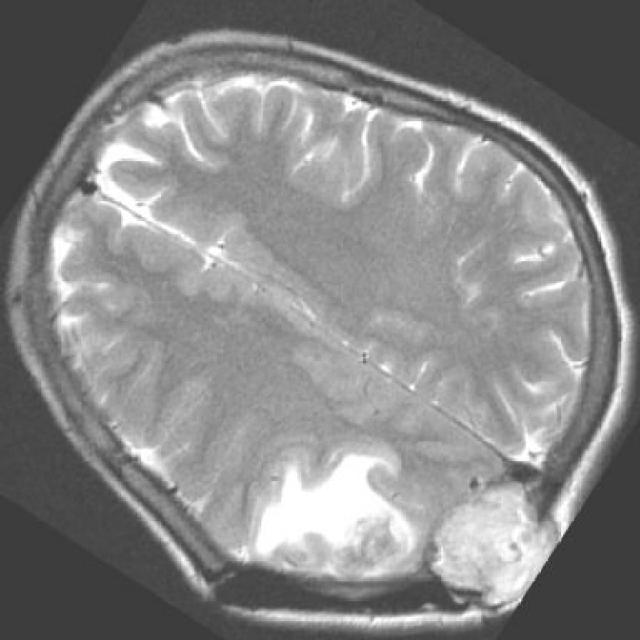Brain-Tumor: (248, 432, 423, 588), (438, 474, 564, 618)
